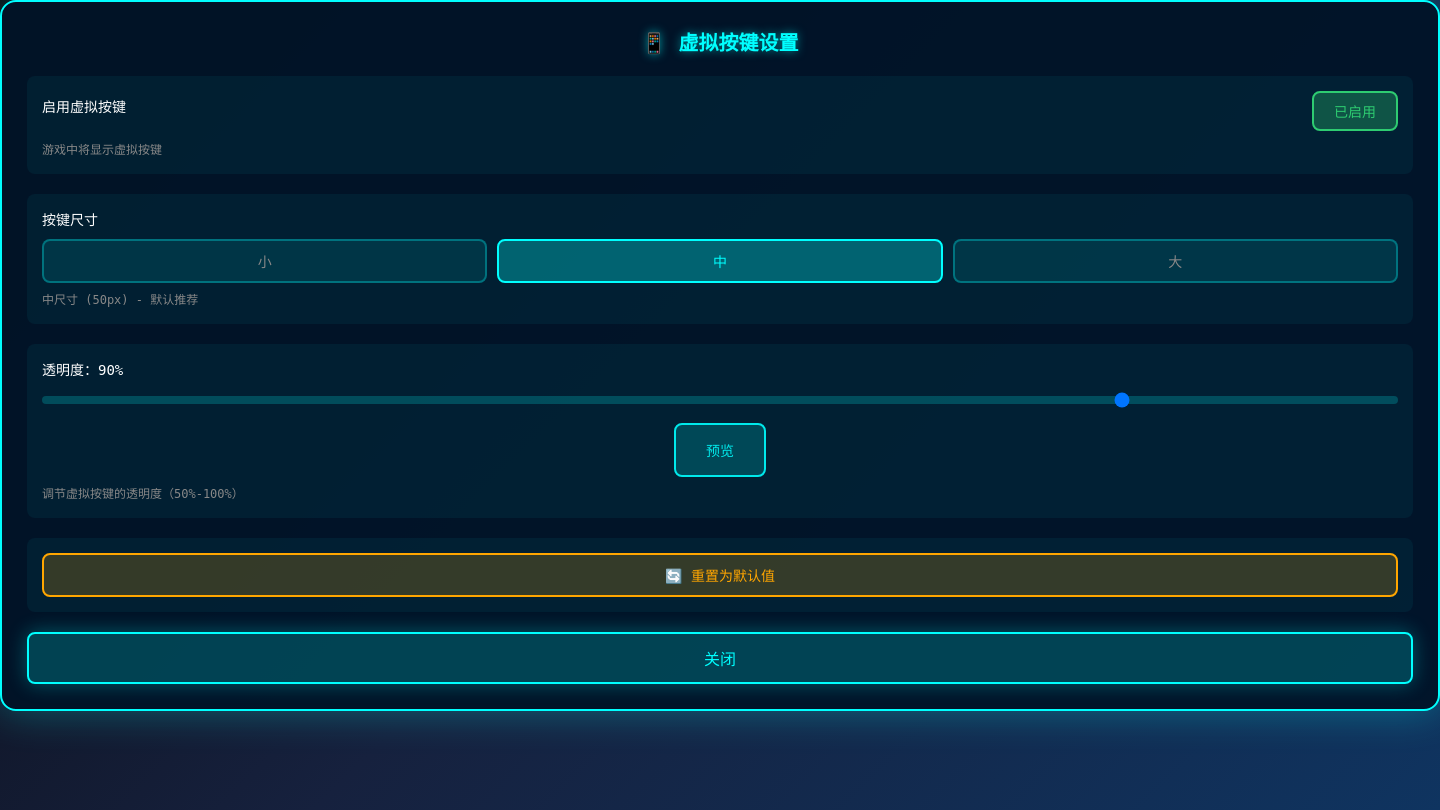
Test case: MobileControlsSettingsPanel › 点击切换按钮改变启用状态
Click the button "已启用" at (1355, 111), box x1=1312 y1=91 x2=1398 y2=131
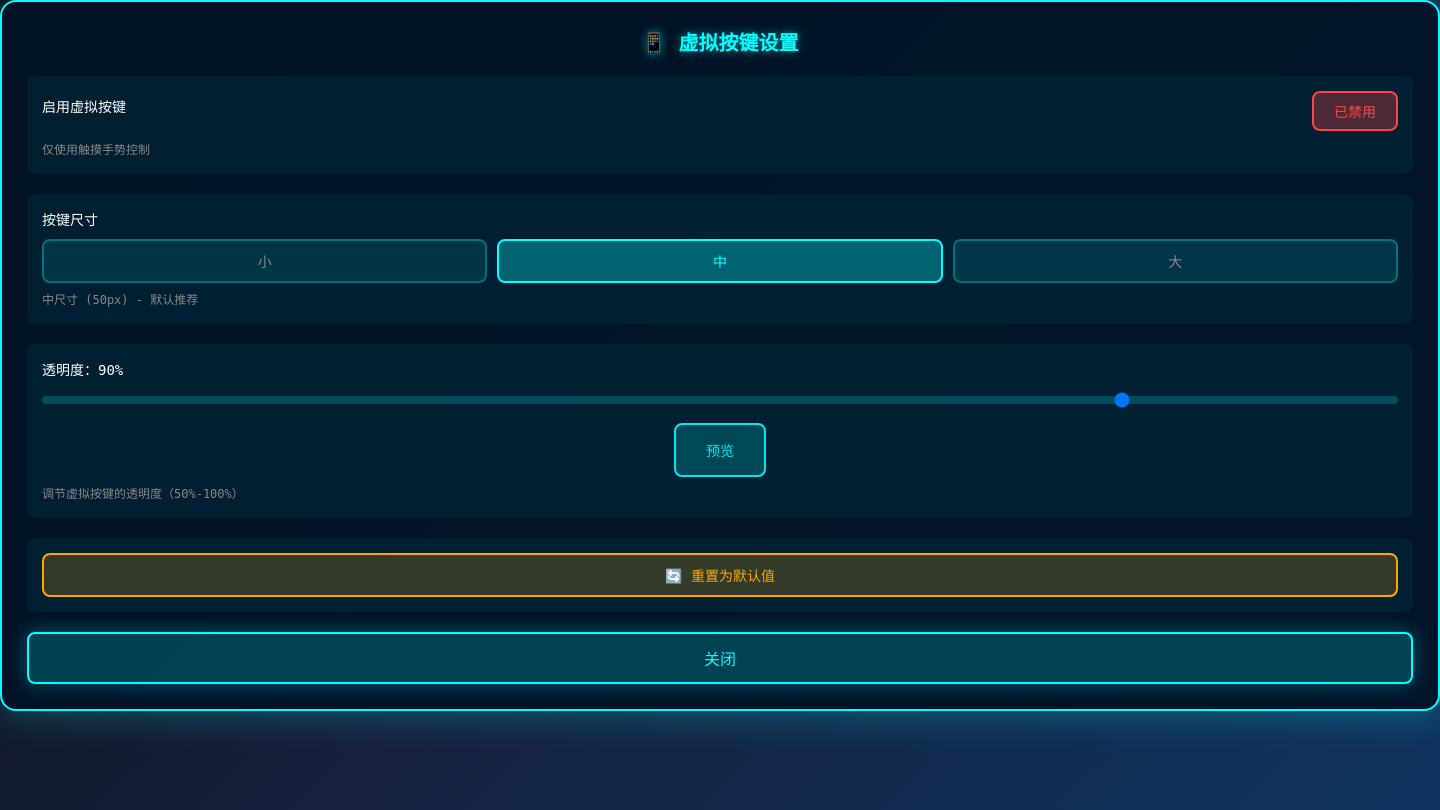
Check: the button "已禁用" is shown, box x1=1312 y1=91 x2=1398 y2=131
